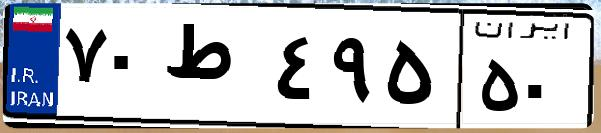0: (525, 38, 570, 115), (110, 28, 158, 98)
4: (270, 28, 330, 110)
5: (385, 28, 445, 110), (475, 38, 525, 113)
7: (57, 26, 110, 100)
9: (330, 28, 385, 110)
ط: (158, 20, 270, 120)
